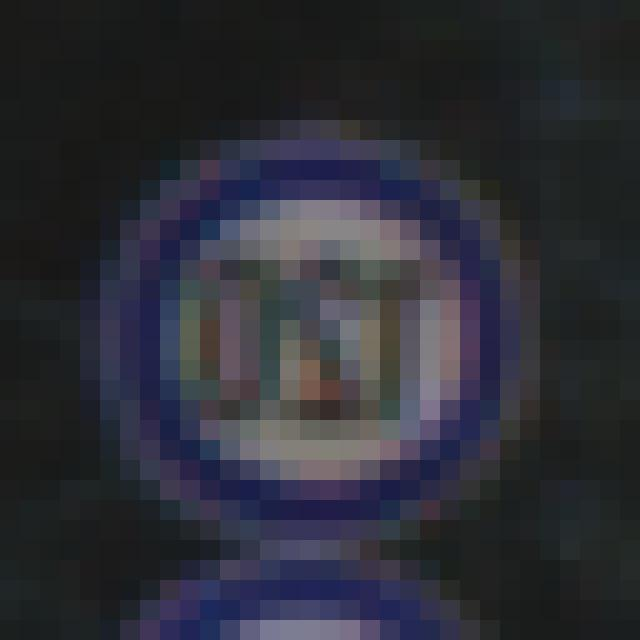SPEED LIMIT 120: (67, 140, 539, 538)
